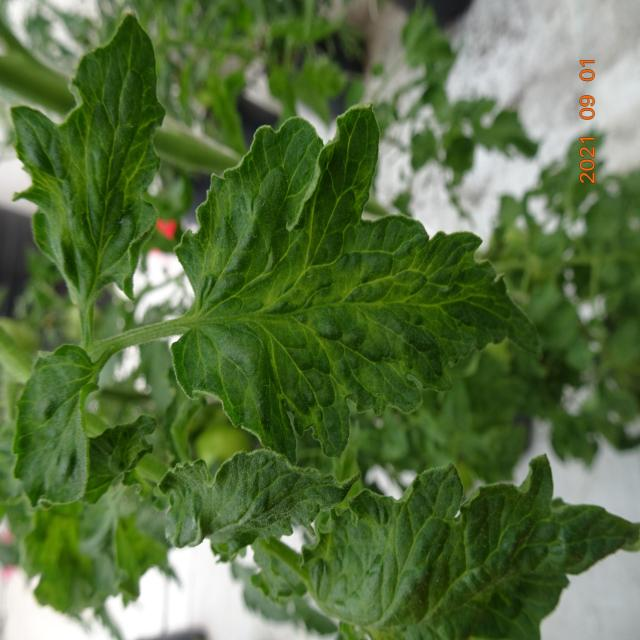T_L_R: (174, 108, 539, 461), (304, 458, 640, 639), (12, 16, 166, 346), (161, 449, 357, 559), (15, 346, 99, 506)
